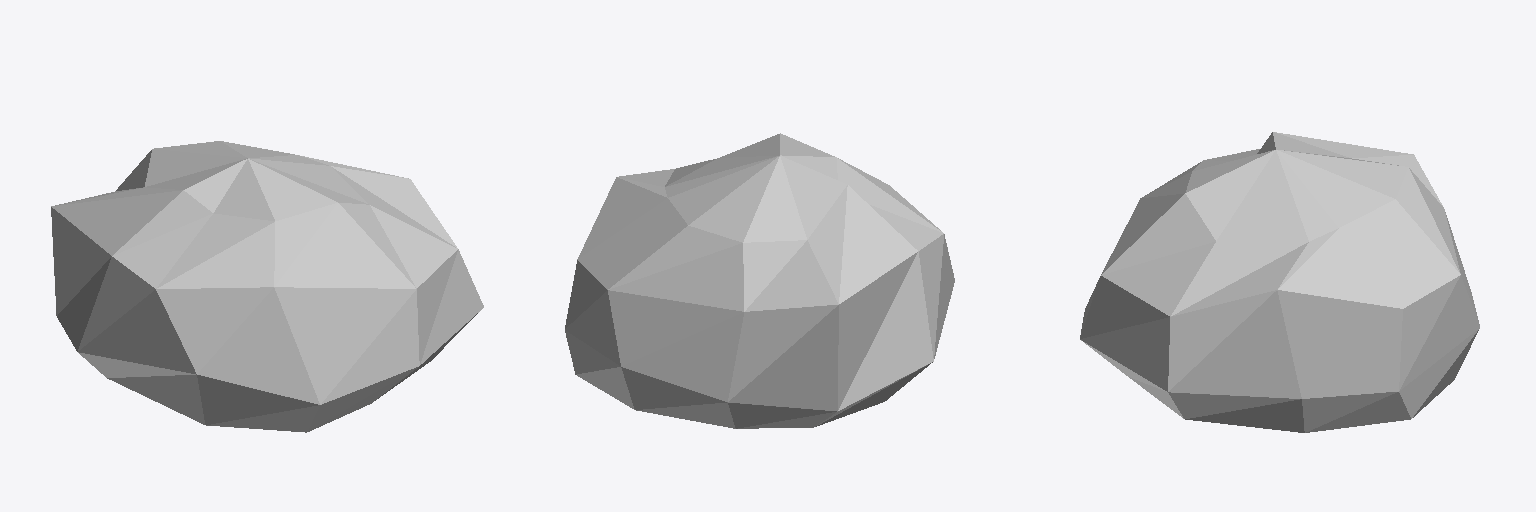
The model's file is rock.obj.
The picture shows the model from 3 angles: view 1: azimuth 30°, elevation 25°; view 2: azimuth 150°, elevation 25°; view 3: azimuth 270°, elevation 25°; orthographic projection.
Visible parts, largest first — view 1: MODELS_bin_014:poly000; view 2: MODELS_bin_014:poly000; view 3: MODELS_bin_014:poly000.
Boxes of the visible parts, x1,y1,x2,y2 form: MODELS_bin_014:poly000: [51, 141, 483, 432]; MODELS_bin_014:poly000: [565, 133, 954, 428]; MODELS_bin_014:poly000: [1080, 132, 1479, 432].
Size of the model in its own units: 1.22 by 0.6871 by 1.23.